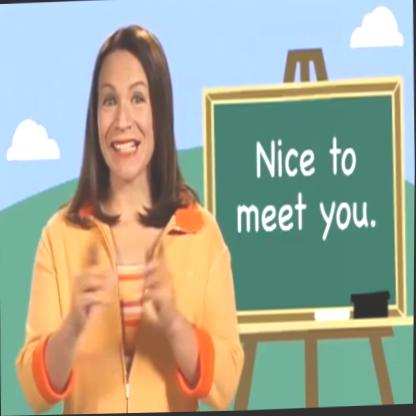NiceToMeetYou: (62, 217, 190, 350)
